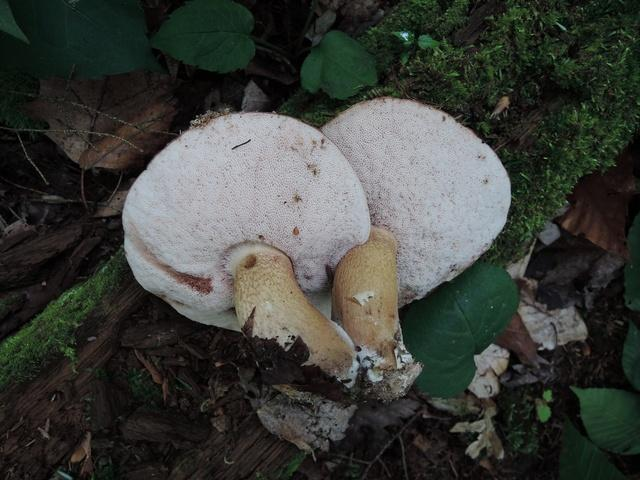Non-edible Mushroom: (298, 80, 499, 441), (120, 109, 371, 390)
